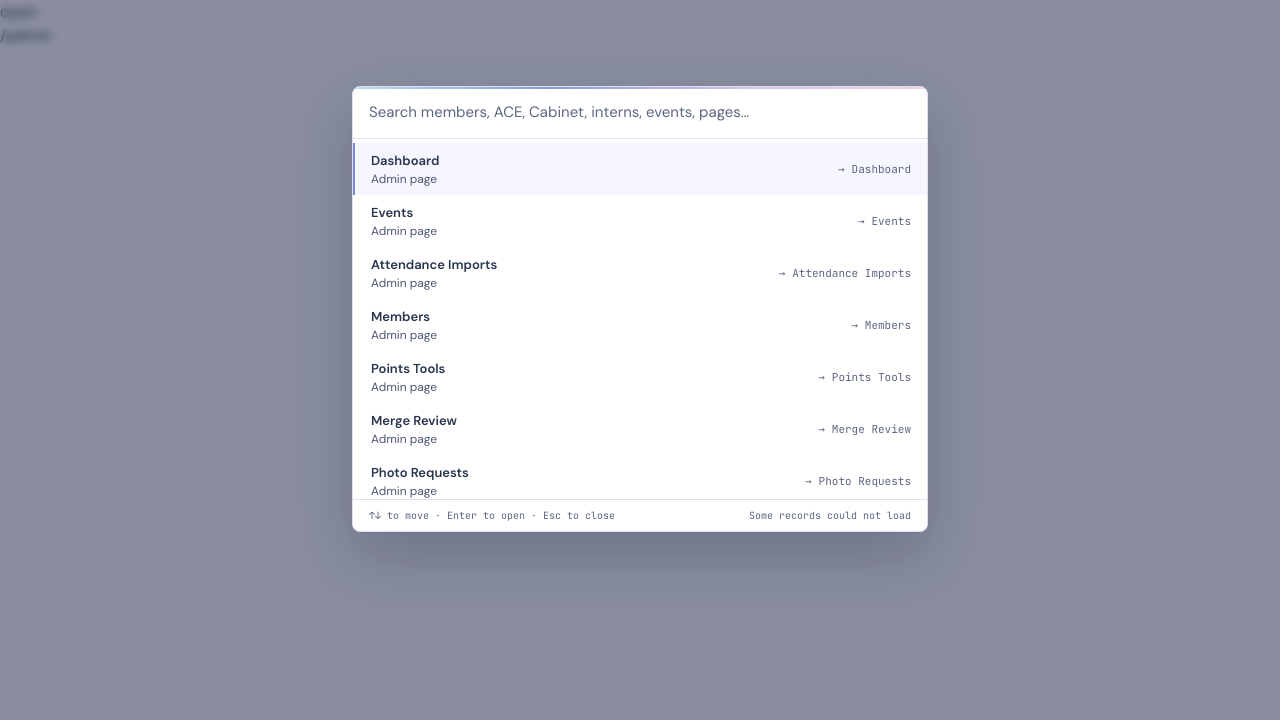
Test: AdminQuickSearch › still finds admin pages when the record index fails to load
The width and height of the screenshot is (1280, 720).
Step 1. Type "houses" into the dropdown named "Search admin" → (640, 113), box [353, 87, 927, 139]
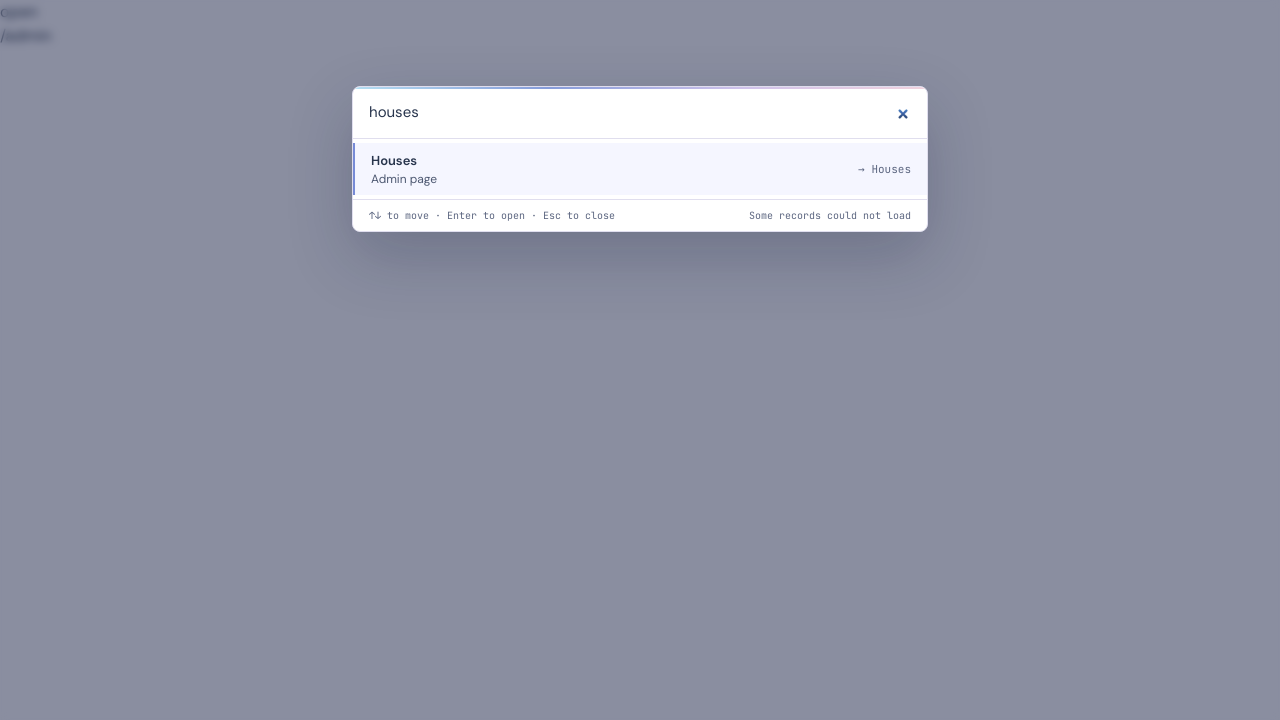
Check: the option "Houses Admin page → Houses" is shown, box [353, 143, 927, 195]
